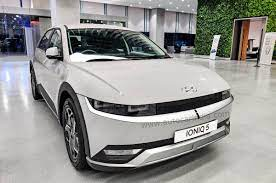Honda Ioniq: (17, 20, 246, 183)
